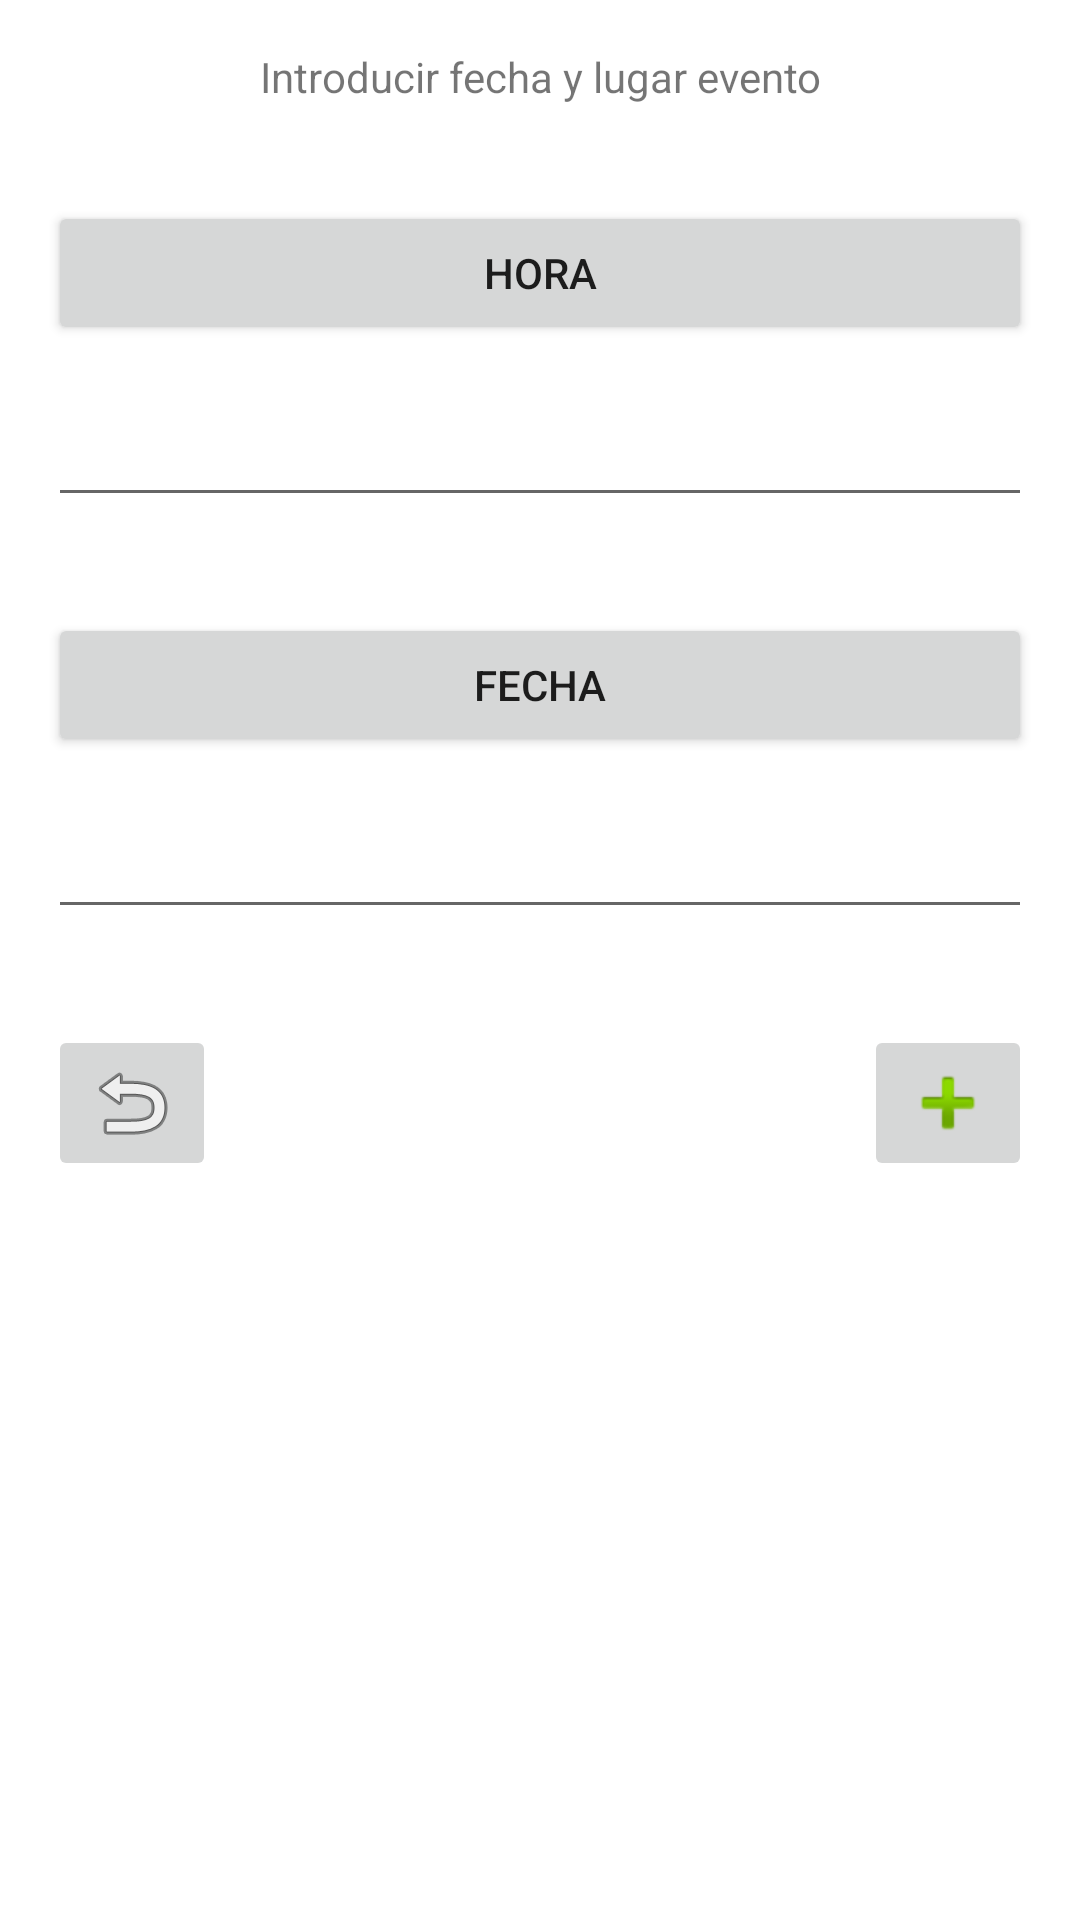

Icon click points for this 1080 x 1920 phone screenshot, format (x=x, y=y):
add: (x=948, y=1103)
revert: (x=132, y=1103)
